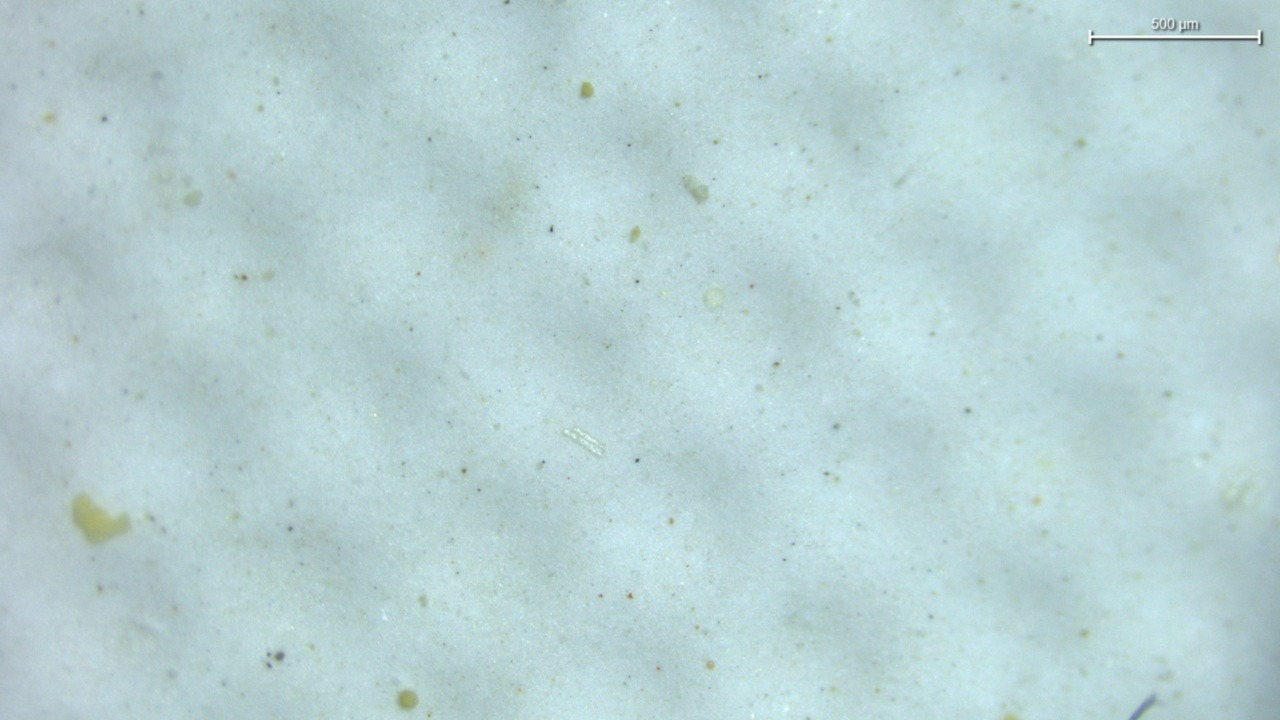microplastic_fragment: (563, 427, 604, 457)
